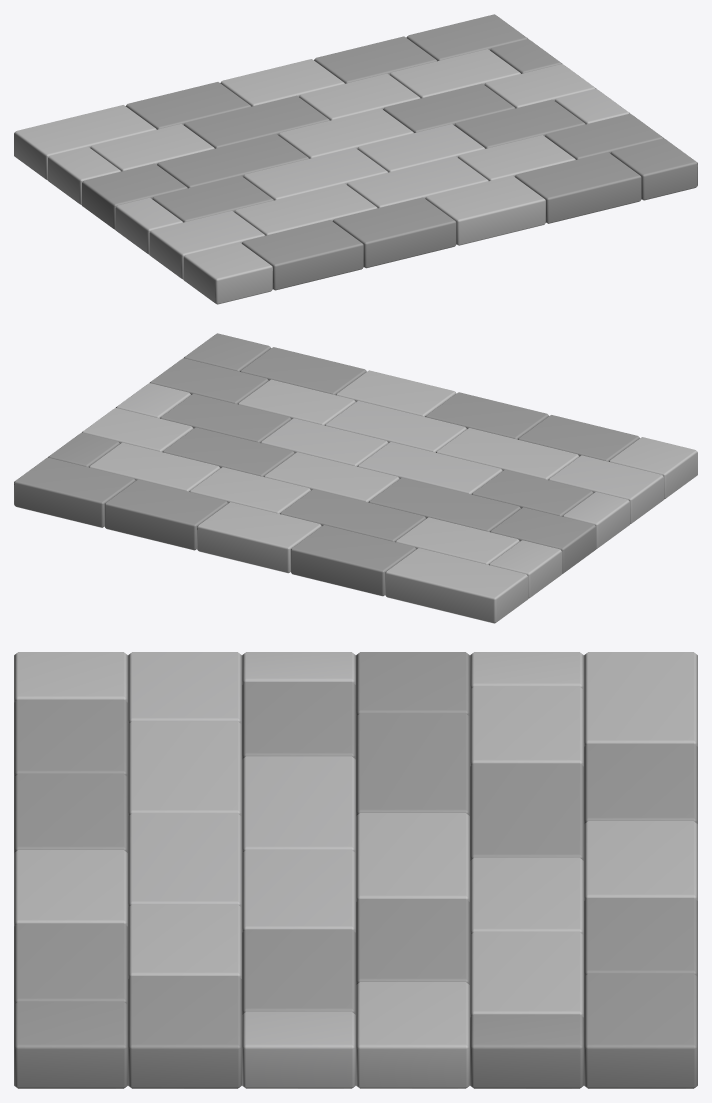
Rendered from City_19_Base_1.glb.
3 renders of one model, top to bottom at view 1: azimuth 30°, elevation 25°; view 2: azimuth 150°, elevation 25°; view 3: azimuth 270°, elevation 25°, orthographic. The views are drawn at different scales.
Parts seen in each view (by area): view 1: City_19_Base_1; view 2: City_19_Base_1; view 3: City_19_Base_1.
Part boxes in pixels (bbox=[...]): City_19_Base_1: bbox=[14, 14, 697, 304]; City_19_Base_1: bbox=[14, 333, 697, 623]; City_19_Base_1: bbox=[14, 652, 697, 1088].
Bounding box in the file's own units: 11.96 × 0.6294 × 8.74.
1 material, 1 textured.
